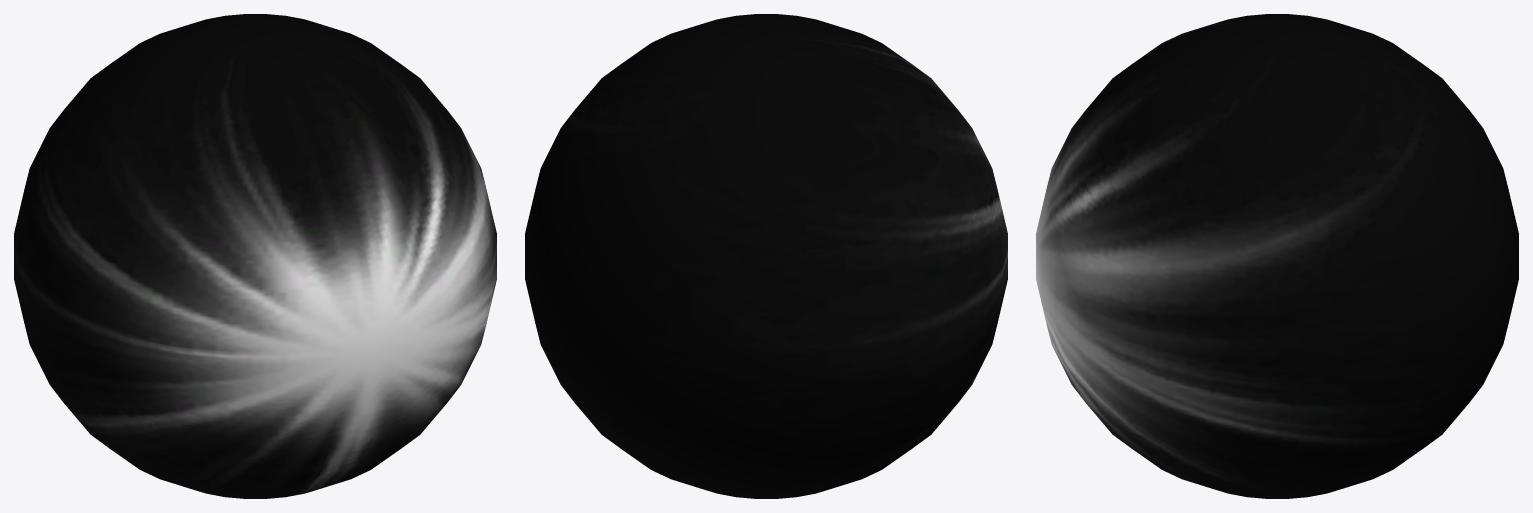
Rendered from 0097_MeiLuoYeTaWuDao_Skill_01.glb.
The picture shows the model from 3 angles, left to right: view 1: azimuth 30°, elevation 25°; view 2: azimuth 150°, elevation 25°; view 3: azimuth 270°, elevation 25°; orthographic projection.
Size of the model in its own units: 2.18 by 2.2 by 2.19.
1 material, 1 textured.
